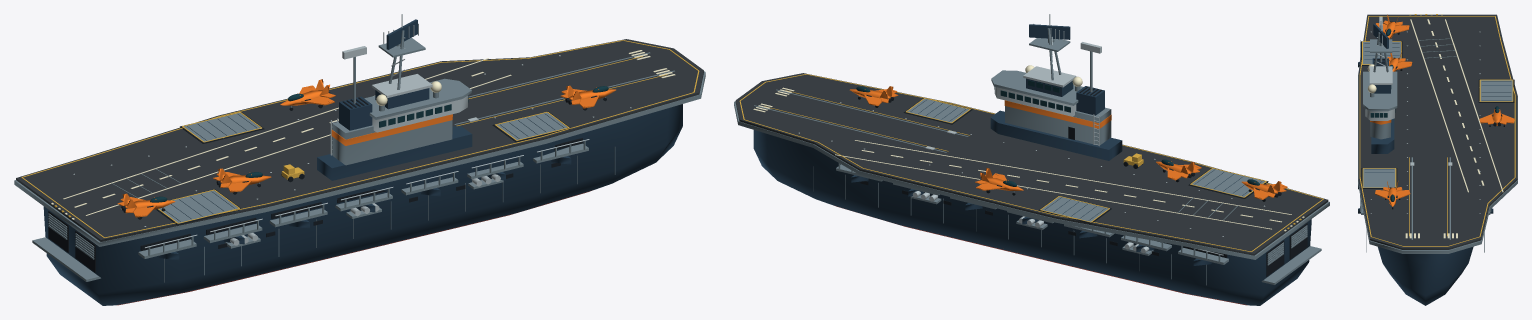
The model's file is demo-argent-aircraft-carrier.glb.
3 views of the same model, side by side, from view 1: azimuth 30°, elevation 25°; view 2: azimuth 150°, elevation 25°; view 3: azimuth 270°, elevation 25° (orthographic). The views are drawn at different scales.
Visible parts, largest first — view 1: Mesh_FlightDeck, Mesh_SculptedHull, Mesh_FlightDeckRim, Mesh_LiftSurface (×3), Mesh_IslandMainTower, Mesh_IslandFoundation, Mesh_BridgeRoof, Mesh_NavigationBridge, Mesh_ExhaustTrunk, Mesh_SternServicePlatform, Mesh_IslandOrangeRecognitionBand, Mesh_UpperControlRoof (+7 smaller); view 2: Mesh_FlightDeck, Mesh_SculptedHull, Mesh_FlightDeckRim, Mesh_LiftSurface (×3), Mesh_IslandMainTower, Mesh_IslandFoundation, Mesh_BridgeRoof, Mesh_NavigationBridge, Mesh_SternServicePlatform, Mesh_ExhaustTrunk, Mesh_IslandOrangeRecognitionBand, Mesh_LandingLaneBoundary1 (+4 smaller); view 3: Mesh_FlightDeck, Mesh_SculptedHull, Mesh_LiftSurface (×3), Mesh_FlightDeckRim, Mesh_BridgeRoof, Mesh_IslandFoundation, Mesh_UpperControlRoof, Mesh_IslandMainTower, Mesh_LandingLaneBoundary-1, Mesh_LandingLaneBoundary1, Mesh_NavigationBridge, Mesh_RadarPlatform (+8 smaller).
Boxes of the visible parts, x1,y1,x2,y2 form: Mesh_FlightDeck: (16, 39, 703, 241); Mesh_SculptedHull: (43, 104, 682, 305); Mesh_FlightDeckRim: (14, 71, 705, 246); Mesh_LiftSurface (×3): (159, 112, 567, 222); Mesh_IslandMainTower: (332, 120, 452, 165); Mesh_IslandFoundation: (317, 126, 472, 180); Mesh_BridgeRoof: (364, 78, 471, 119); Mesh_NavigationBridge: (372, 96, 467, 132); Mesh_ExhaustTrunk: (339, 96, 372, 130); Mesh_SternServicePlatform: (32, 237, 100, 281); Mesh_IslandOrangeRecognitionBand: (331, 114, 452, 145); Mesh_UpperControlRoof: (371, 74, 432, 98); Mesh_FlightDeck: (735, 73, 1328, 255); Mesh_SculptedHull: (753, 130, 1311, 305); Mesh_FlightDeckRim: (734, 101, 1329, 259); Mesh_LiftSurface (×3): (907, 98, 1264, 221); Mesh_IslandMainTower: (1005, 106, 1111, 145); Mesh_IslandFoundation: (990, 110, 1122, 160); Mesh_BridgeRoof: (991, 70, 1083, 105); Mesh_NavigationBridge: (994, 87, 1076, 116); Mesh_SternServicePlatform: (1261, 246, 1321, 284); Mesh_ExhaustTrunk: (1076, 86, 1104, 115); Mesh_IslandOrangeRecognitionBand: (1004, 100, 1111, 128); Mesh_LandingLaneBoundary1: (855, 140, 1291, 214); Mesh_FlightDeck: (1358, 14, 1517, 249); Mesh_SculptedHull: (1378, 246, 1473, 305); Mesh_LiftSurface (×3): (1363, 42, 1512, 187); Mesh_FlightDeckRim: (1358, 17, 1517, 253); Mesh_BridgeRoof: (1363, 71, 1397, 111); Mesh_IslandFoundation: (1371, 118, 1394, 153); Mesh_UpperControlRoof: (1369, 66, 1392, 84); Mesh_IslandMainTower: (1370, 122, 1390, 139); Mesh_LandingLaneBoundary-1: (1445, 19, 1503, 192); Mesh_LandingLaneBoundary1: (1410, 19, 1468, 192); Mesh_NavigationBridge: (1365, 108, 1394, 120); Mesh_RadarPlatform: (1370, 39, 1392, 52).
Bounding box in the file's own units: 33.8 × 12.04 × 9.7.
